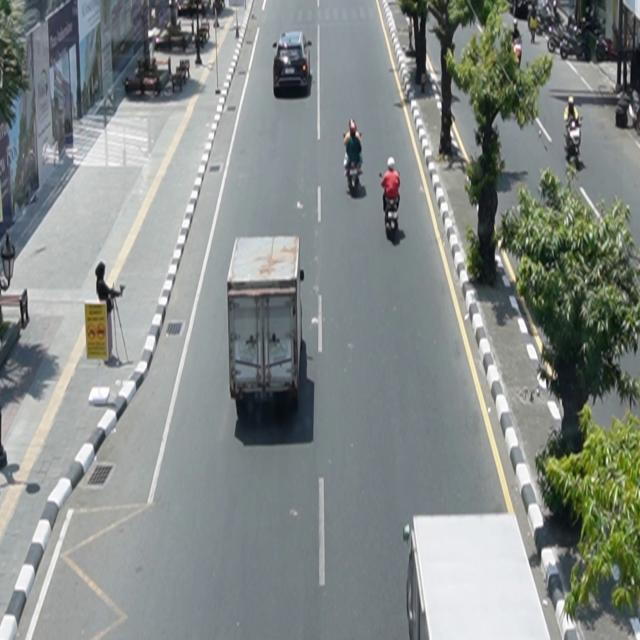car: (273, 31, 313, 98)
truck: (227, 235, 305, 416)
